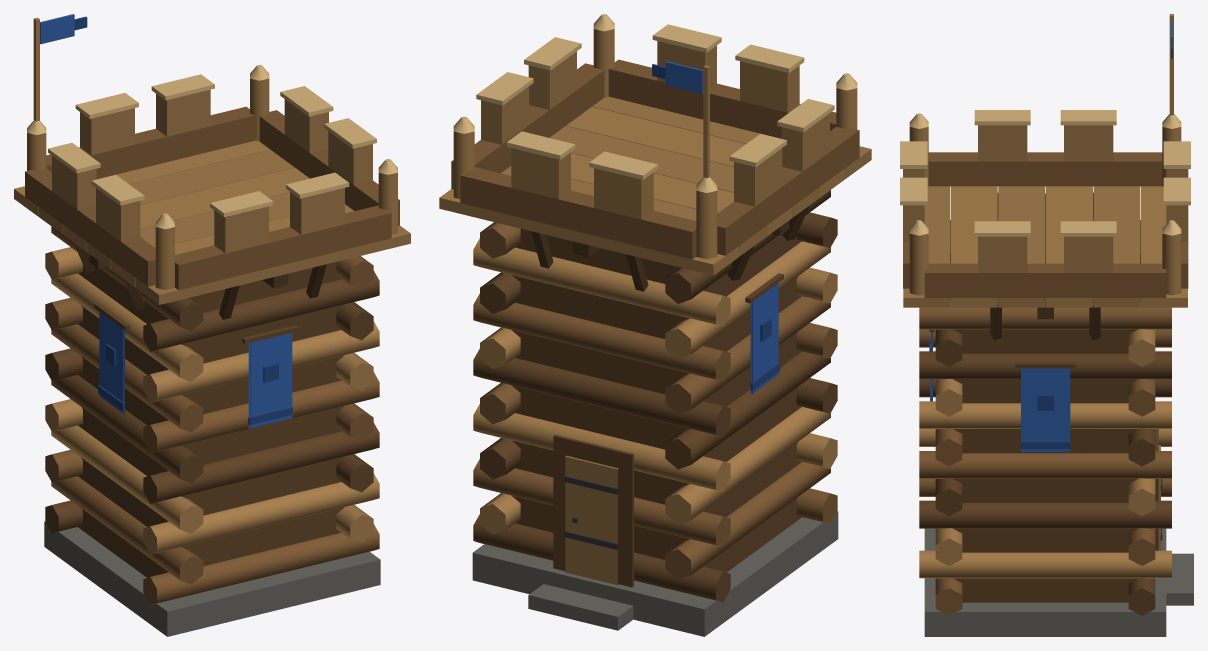
Rendered from timber-tower.glb.
3 views of the same model, side by side, from view 1: azimuth 30°, elevation 25°; view 2: azimuth 150°, elevation 25°; view 3: azimuth 270°, elevation 25° (orthographic). The views are drawn at different scales.
Visible parts, largest first — view 1: timber-tower; view 2: timber-tower; view 3: timber-tower.
Part boxes in pixels (x1,y1,x2,y2): timber-tower: [14, 14, 410, 636]; timber-tower: [439, 14, 871, 636]; timber-tower: [900, 14, 1193, 636].
Size of the model in its own units: 5.3 by 10.4 by 5.35.
Materials: 1 (1 with a texture image).
